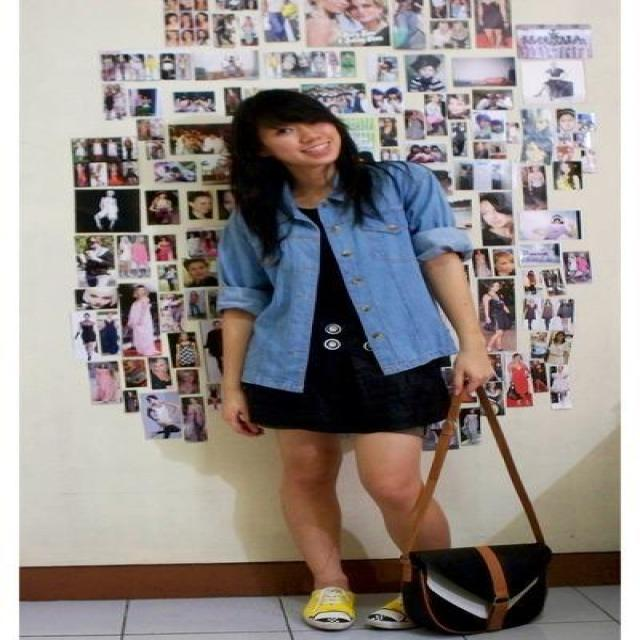bag: (388, 383, 550, 639)
dress: (240, 229, 454, 434)
shirt: (198, 172, 476, 391)
shoe: (304, 586, 352, 616)
